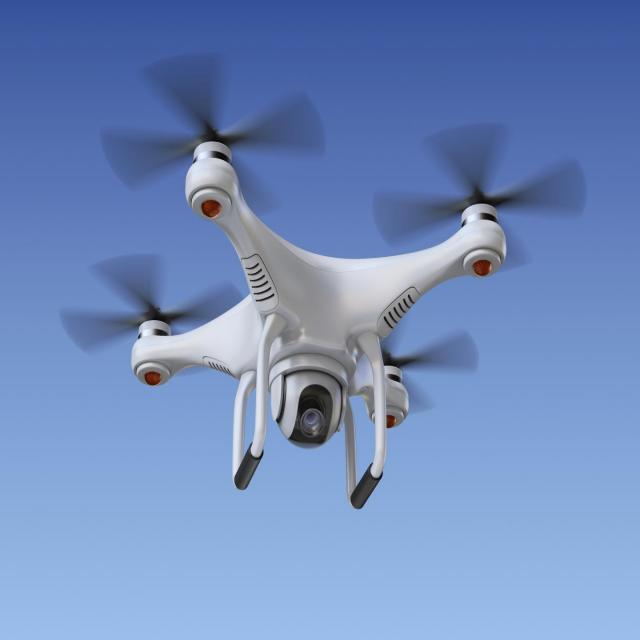UAV: (123, 122, 513, 514)
